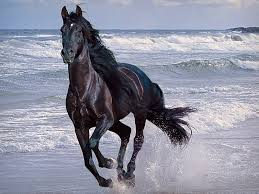horse: (60, 6, 192, 187)
